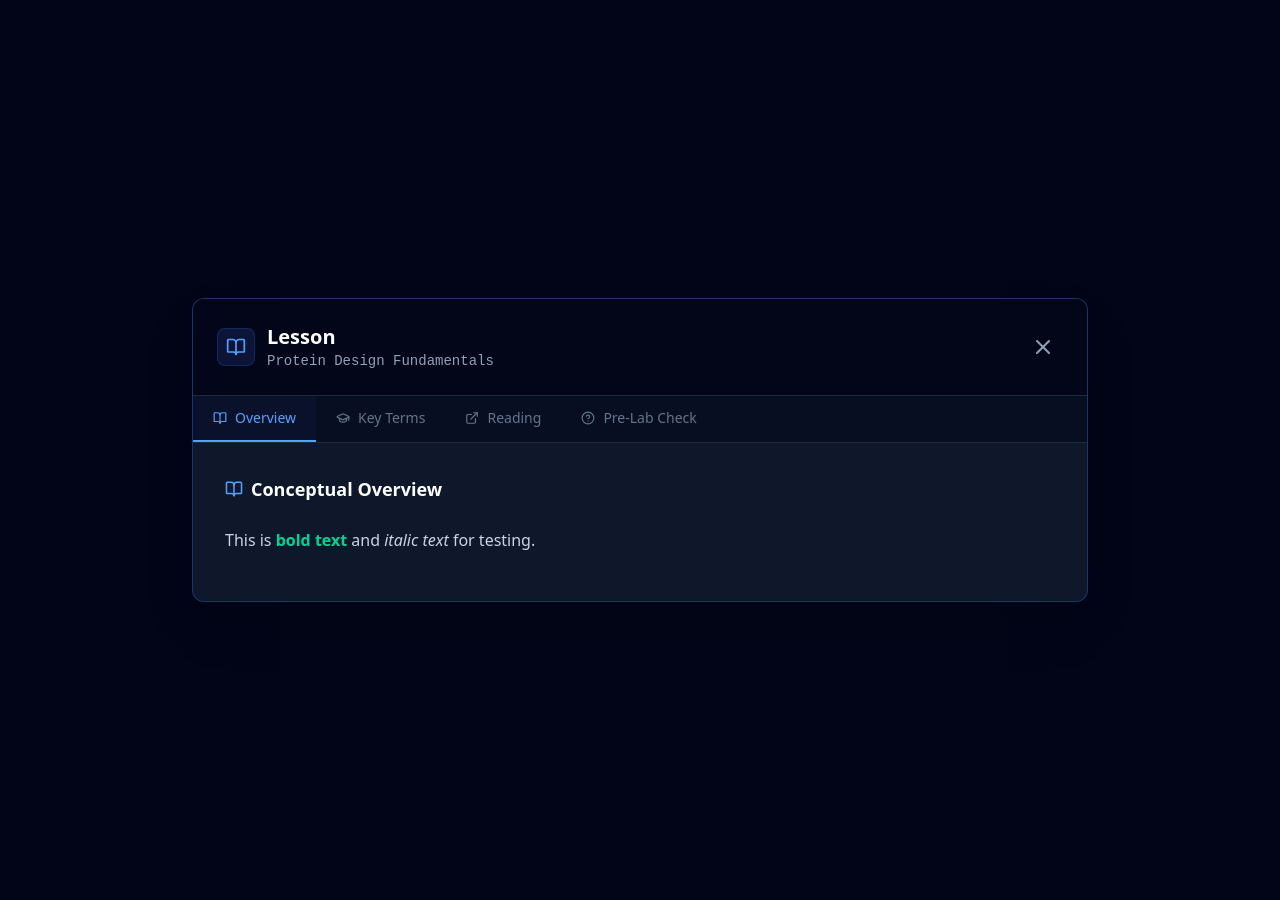
LessonPanel › switches to Pre-Lab Check tab and renders questions
The width and height of the screenshot is (1280, 900).
Step 1. Click the button "Pre-Lab Check" → (639, 419), box left=561, top=396, right=717, bottom=442
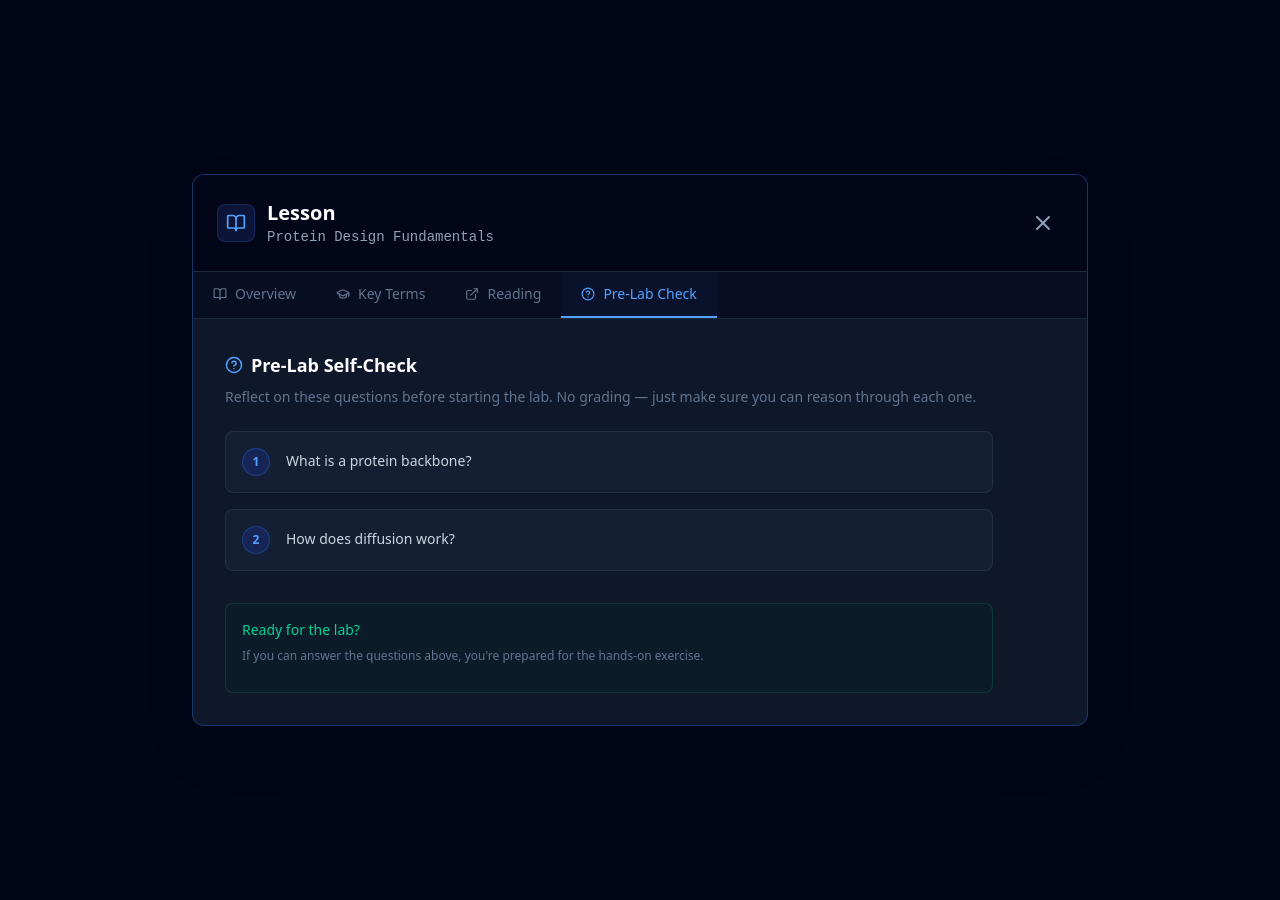
Expected: the text "What is a protein backbone?" is shown, left=286, top=448, right=472, bottom=476
Expected: the text "How does diffusion work?" is shown, left=286, top=526, right=455, bottom=554
